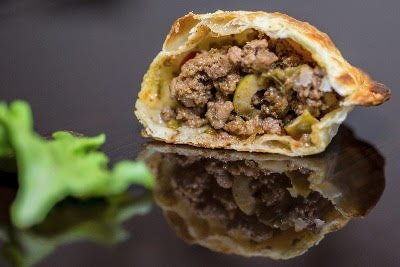curry: (0, 98, 157, 257)
soup: (134, 8, 392, 259)
